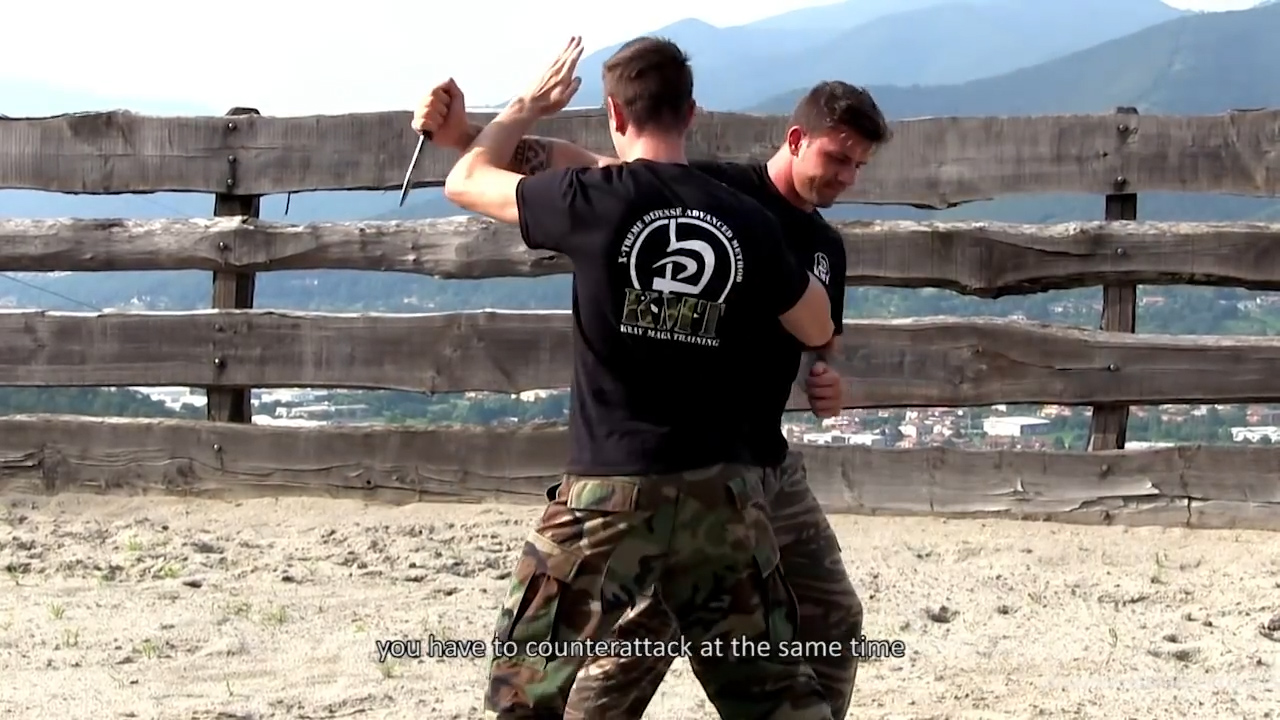knife: (387, 75, 458, 215)
